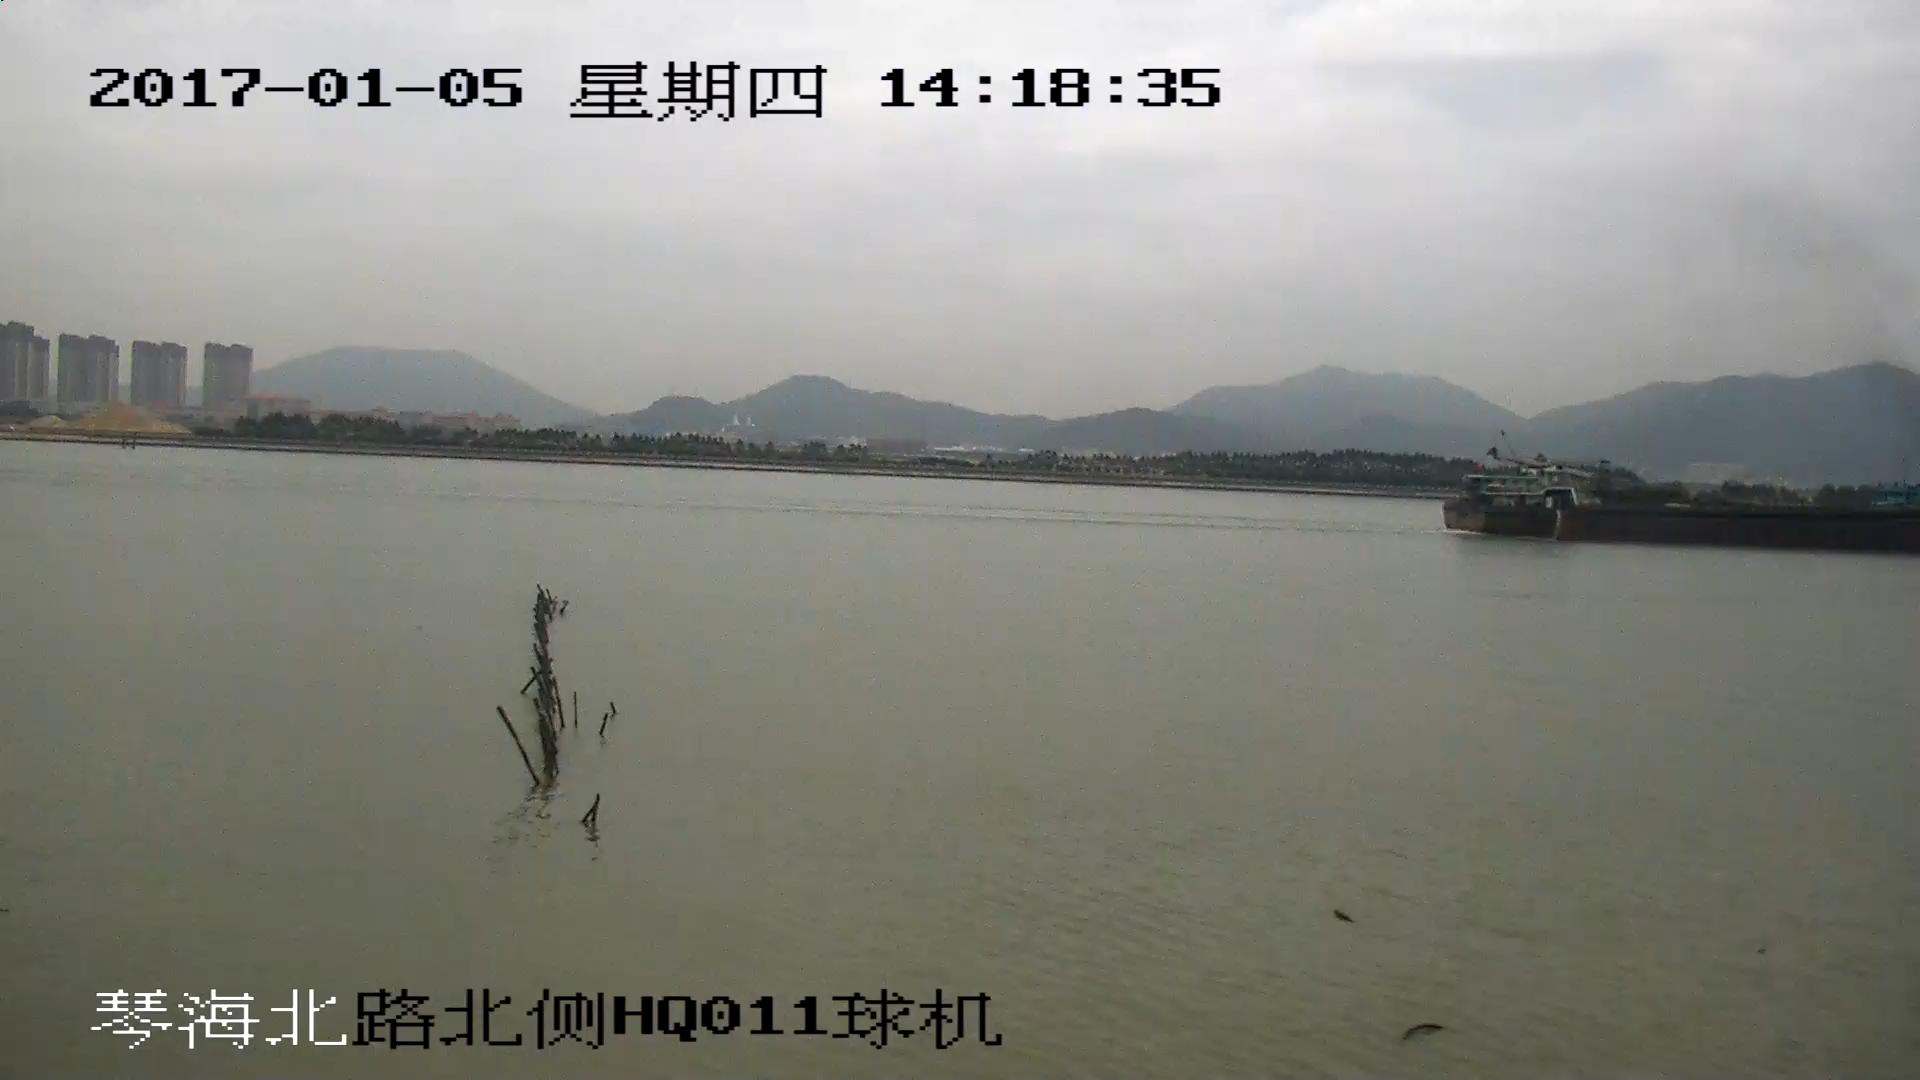bulk cargo carrier: (1443, 464, 1920, 553)
